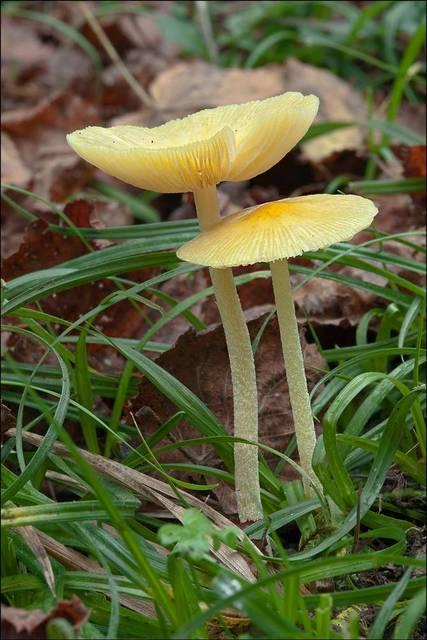Edible Mushroom: (65, 89, 321, 525), (174, 191, 378, 525)
